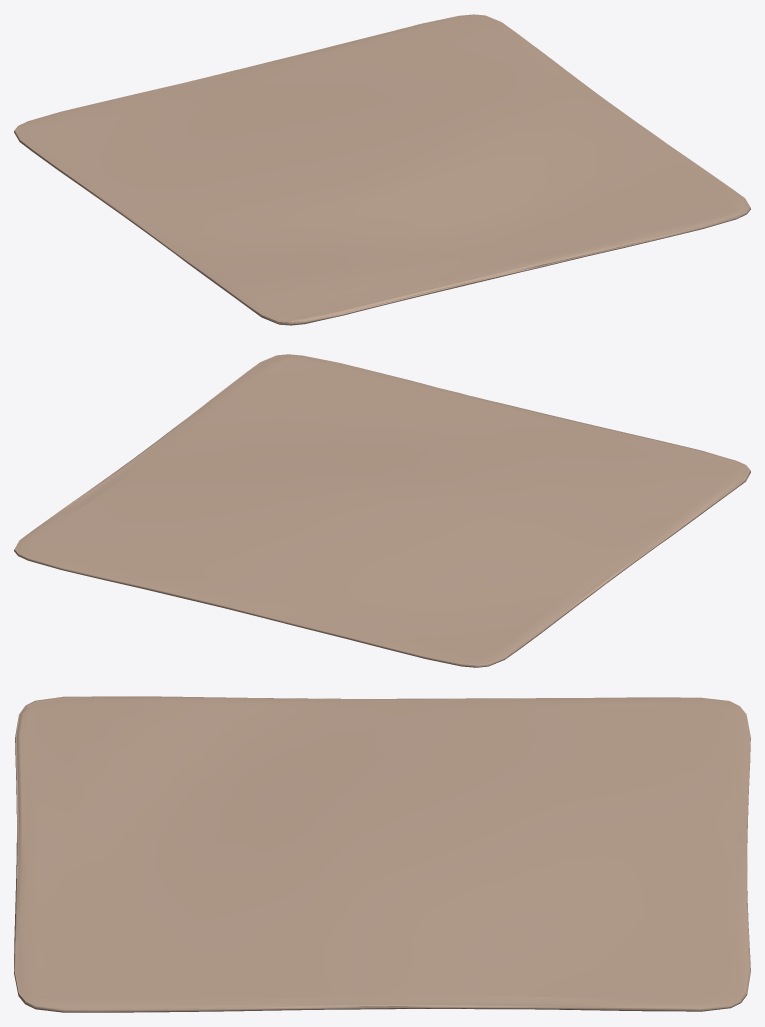
File: Rug.glb
The picture shows the model from 3 angles, top to bottom: view 1: azimuth 30°, elevation 25°; view 2: azimuth 150°, elevation 25°; view 3: azimuth 270°, elevation 25°; orthographic projection. The views are drawn at different scales.
Parts seen in each view (by area): view 1: Rug; view 2: Rug; view 3: Rug.
Part boxes in pixels (x1,y1,x2,y2): Rug: (14,14,750,325); Rug: (14,354,750,667); Rug: (14,696,750,1012).
Bounding box in the file's own units: 2.81 × 0.0557 × 2.79.
